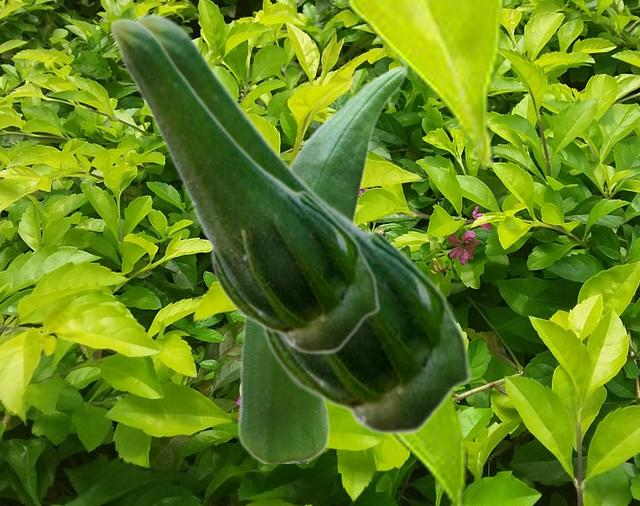okra: (132, 12, 471, 435), (109, 17, 379, 354), (236, 65, 407, 462)
